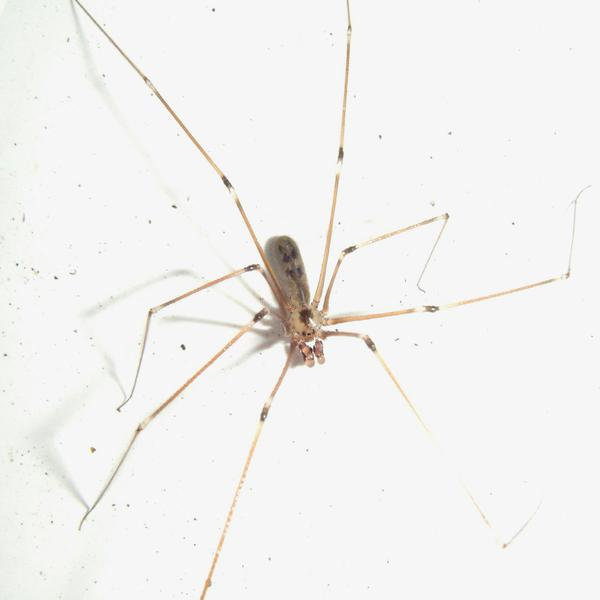Daddy Long Legs Spider: (74, 2, 560, 578)
